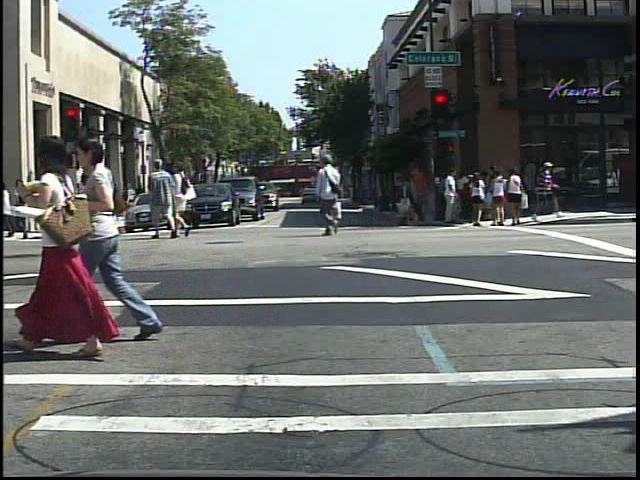person: (9, 128, 117, 364), (76, 129, 169, 348), (314, 151, 350, 243), (150, 155, 181, 242), (44, 167, 71, 244), (76, 168, 104, 242), (534, 157, 565, 219), (174, 161, 198, 241), (17, 175, 41, 244), (469, 171, 490, 231)
